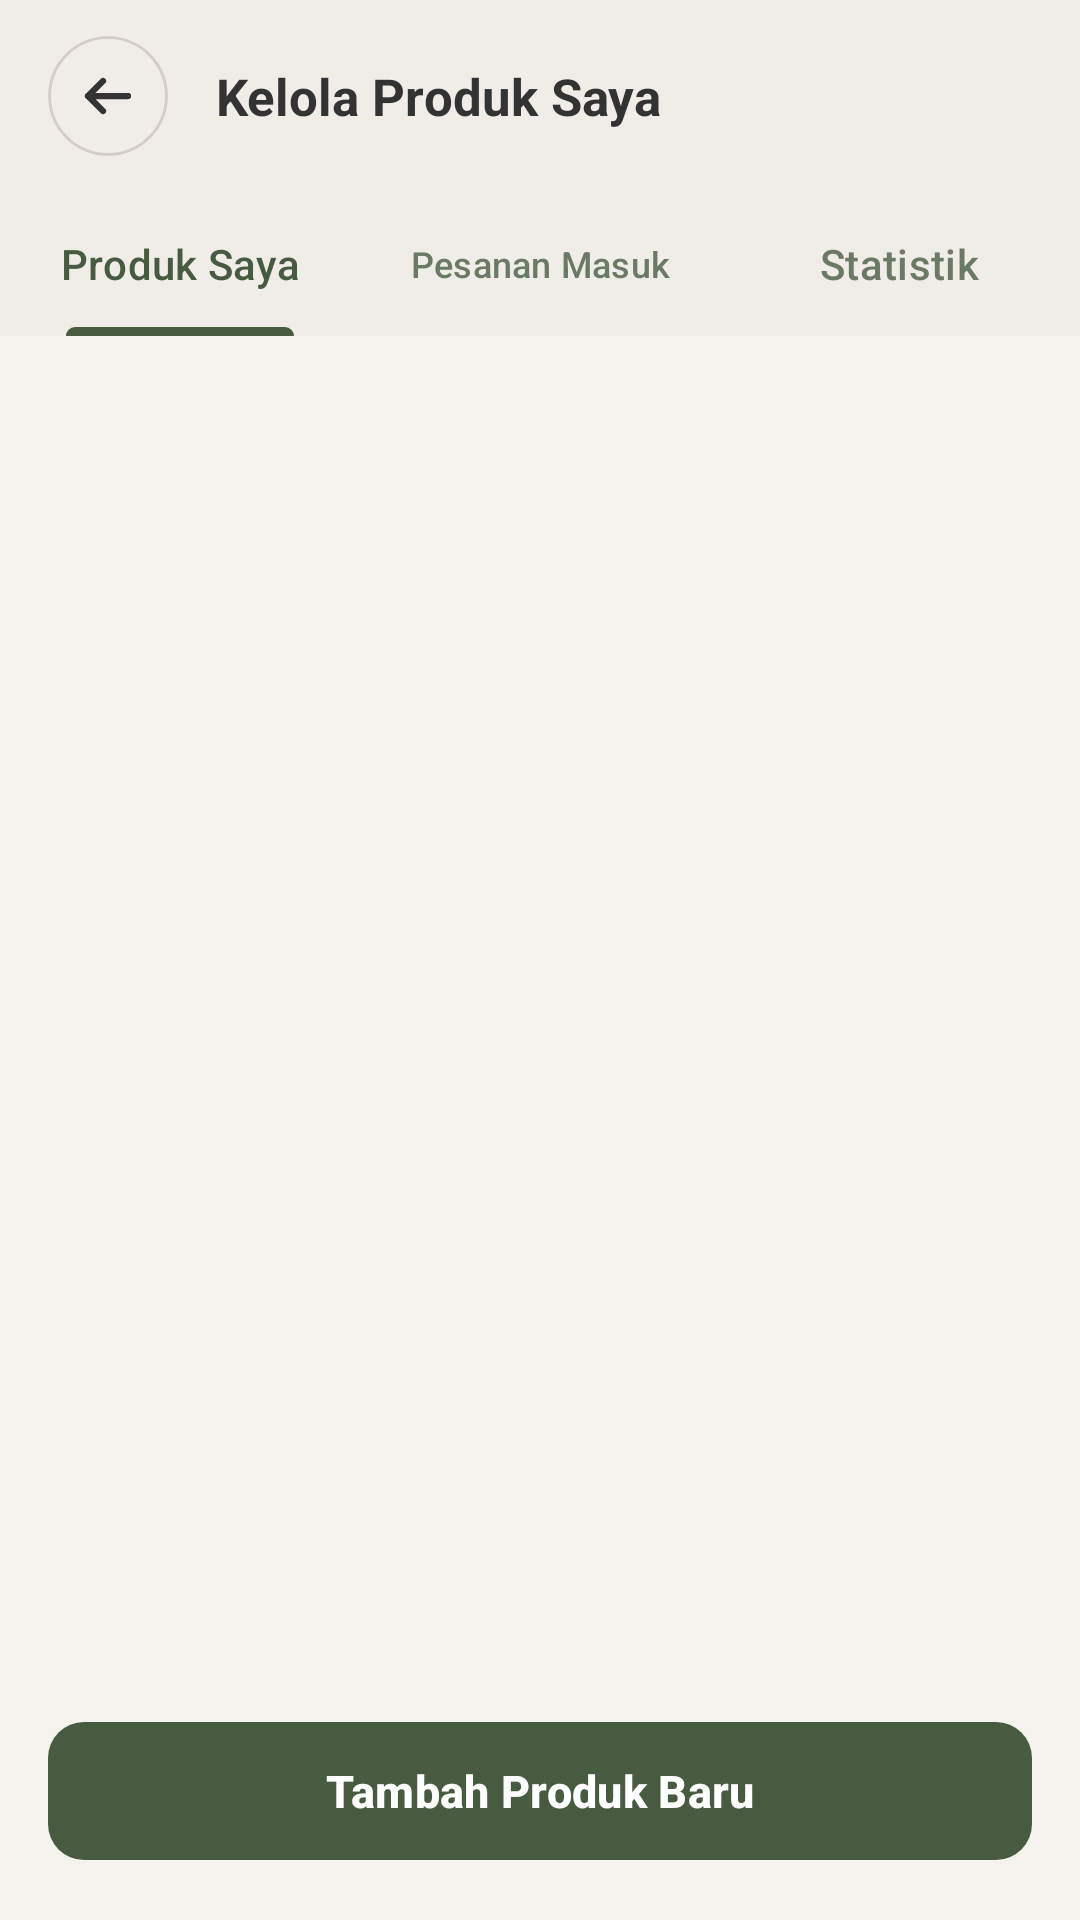

Point at icon controls on the screen. Image size 1080x1920, points as [x,y].
back arrow: [107,96]
